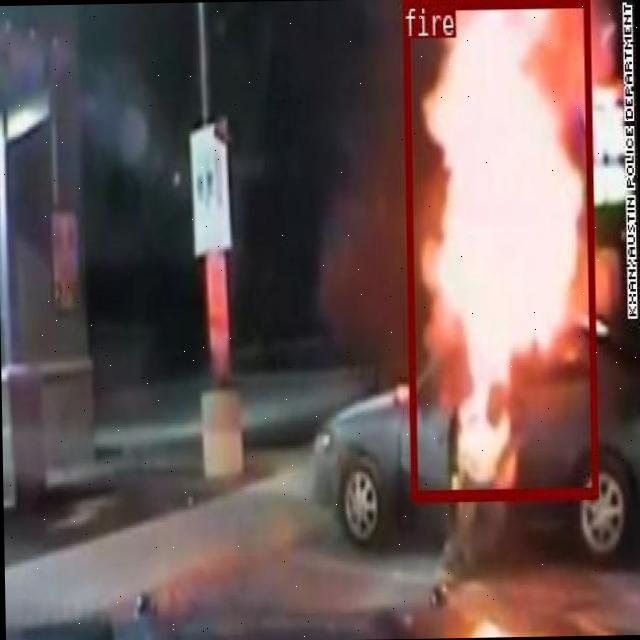fire: (401, 0, 596, 497)
